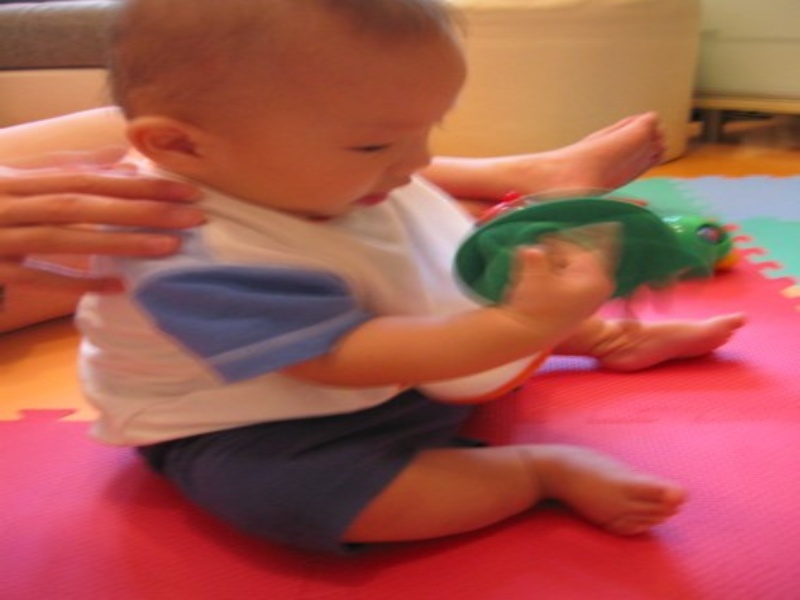person: (75, 2, 750, 558)
